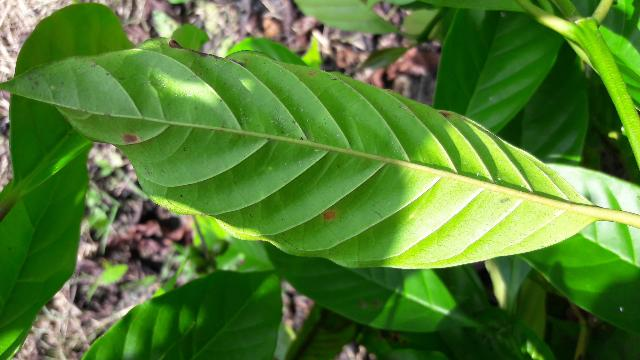red_spider_mite: (16, 46, 589, 267)
